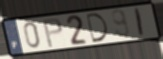0: (23, 21, 44, 51)
2: (65, 14, 89, 47)
9: (112, 9, 133, 42)
D: (85, 12, 110, 45)
I: (134, 7, 145, 39)
P: (41, 17, 64, 49)
